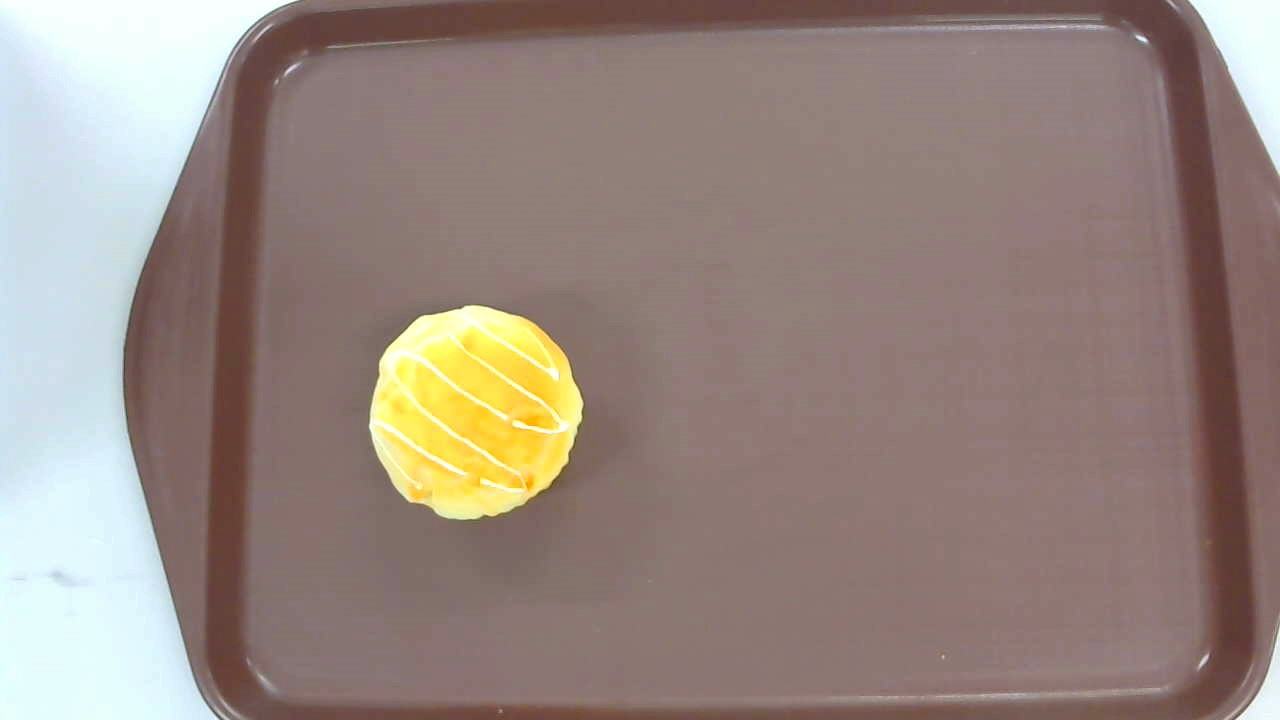cupcake: (367, 304, 585, 523)
